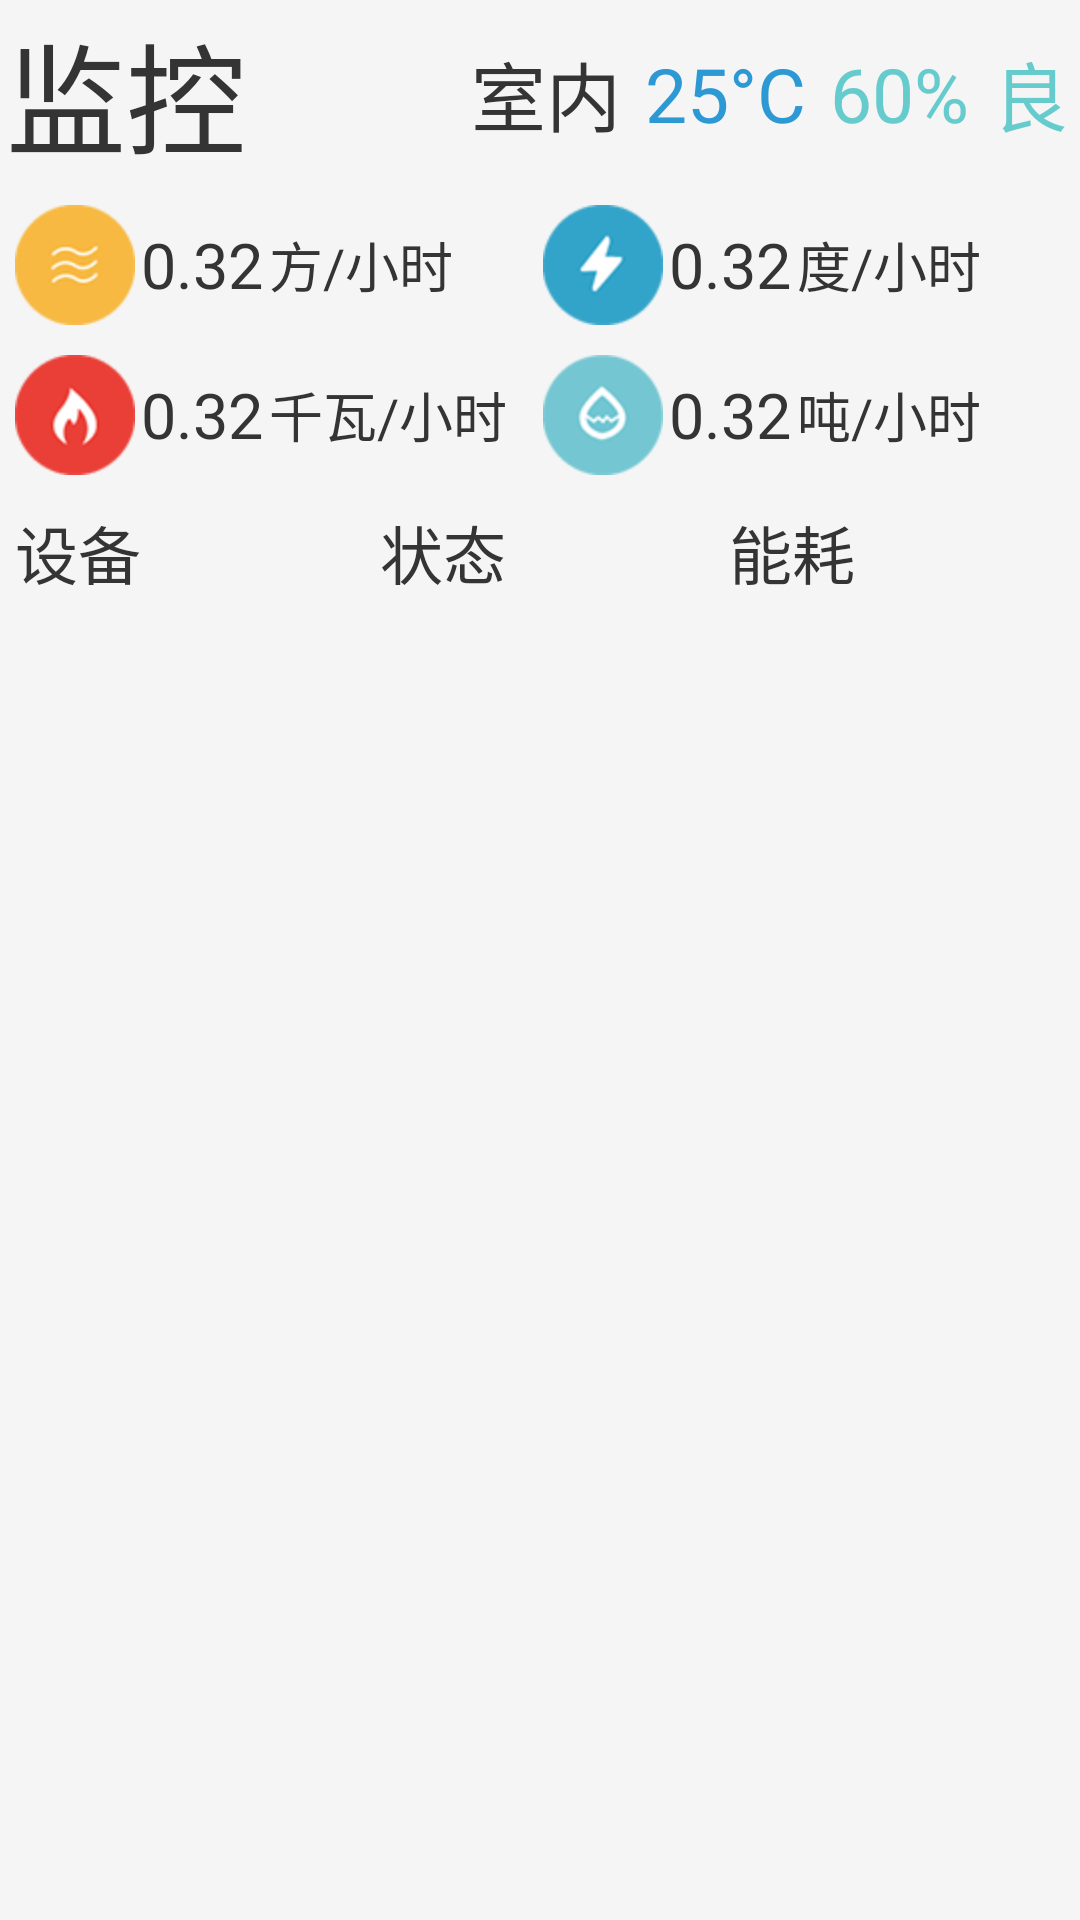

Screen size 1080px×1920px. Icon name, then its center in pixels as (x=x, y=y):
electricity: (x=603, y=265)
gas: (x=75, y=265)
heat: (x=75, y=415)
water: (x=603, y=415)
